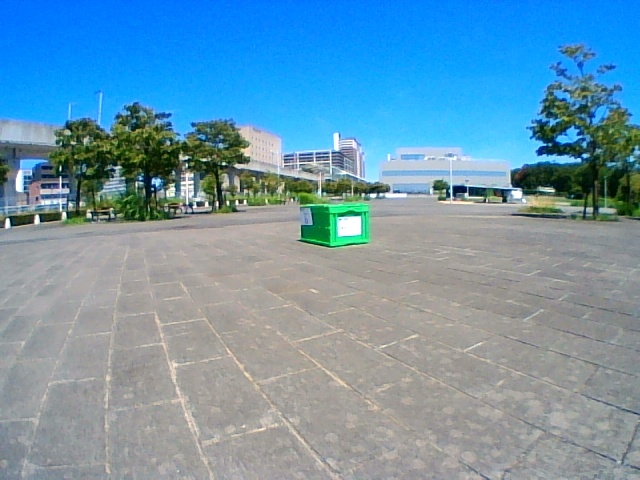green_box: (301, 205, 368, 246)
tag: (301, 209, 310, 224)
